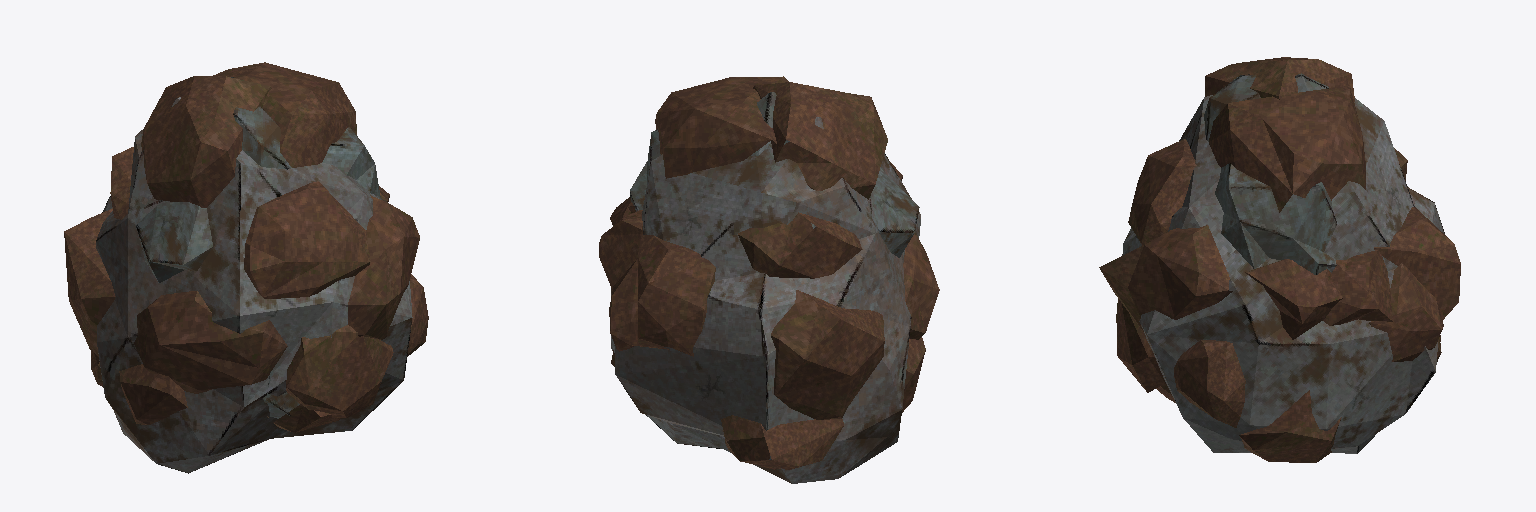
3 views of the same model, side by side, from view 1: azimuth 30°, elevation 25°; view 2: azimuth 150°, elevation 25°; view 3: azimuth 270°, elevation 25° (orthographic).
Visible parts, largest first — view 1: FourArmsBoulder; view 2: FourArmsBoulder; view 3: FourArmsBoulder.
Part boxes in pixels (x1,y1,x2,y2): FourArmsBoulder: (64, 62, 428, 473); FourArmsBoulder: (599, 76, 939, 483); FourArmsBoulder: (1099, 57, 1460, 462).
Bounding box in the file's own units: 1.61 × 1.93 × 1.73.
Materials: 1 (1 with a texture image).